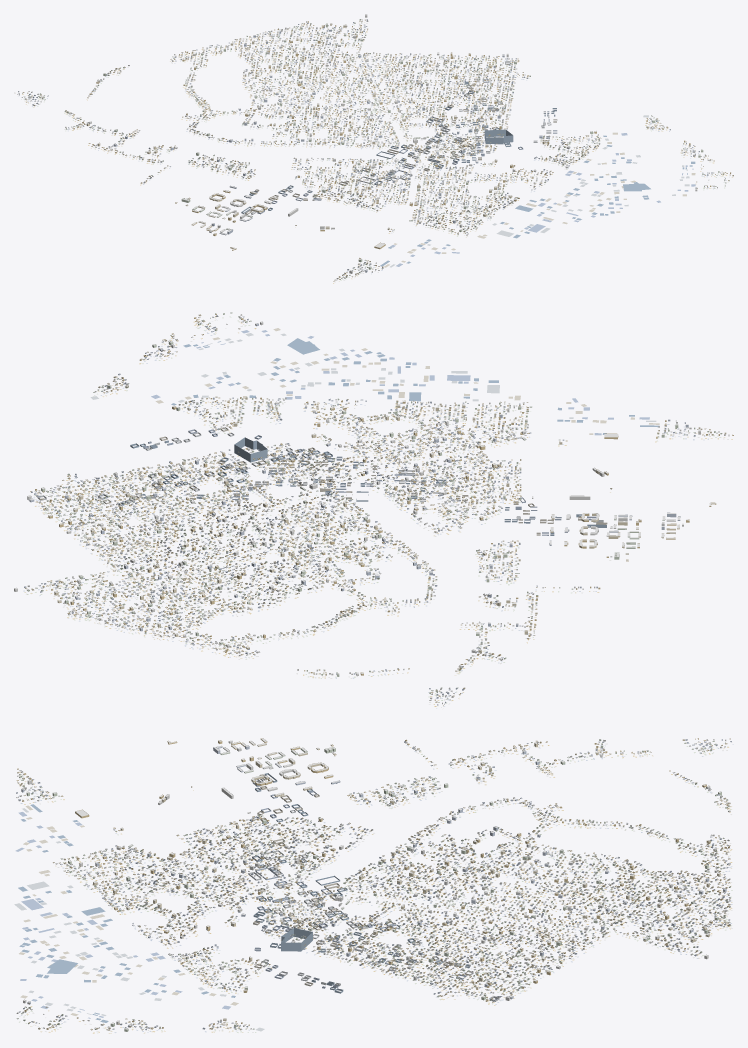
The picture shows the model from 3 angles, top to bottom: view 1: azimuth 30°, elevation 25°; view 2: azimuth 150°, elevation 25°; view 3: azimuth 270°, elevation 25°; orthographic projection. The views are drawn at different scales.
Parts seen in each view (by area): view 1: house, roof_zinc, apartment, factory, roof_flat; view 2: house, roof_zinc, apartment, factory, roof_flat; view 3: house, roof_zinc, apartment, factory, roof_flat.
Part boxes in pixels (x1,y1,x2,y2): house: [15, 19, 733, 281]; roof_zinc: [18, 21, 732, 283]; apartment: [86, 14, 710, 273]; factory: [241, 61, 557, 214]; roof_flat: [87, 14, 709, 271]; house: [24, 312, 733, 706]; roof_zinc: [23, 316, 732, 708]; apartment: [14, 321, 716, 676]; factory: [38, 427, 607, 535]; roof_flat: [14, 322, 716, 674]; house: [16, 738, 731, 1030]; roof_zinc: [14, 742, 733, 1033]; apartment: [21, 738, 726, 1031]; factory: [248, 773, 499, 1001]; roof_flat: [21, 738, 725, 1029].
Size of the model in its own units: 1.4e+08 by 1967781 by 1.46e+08.
